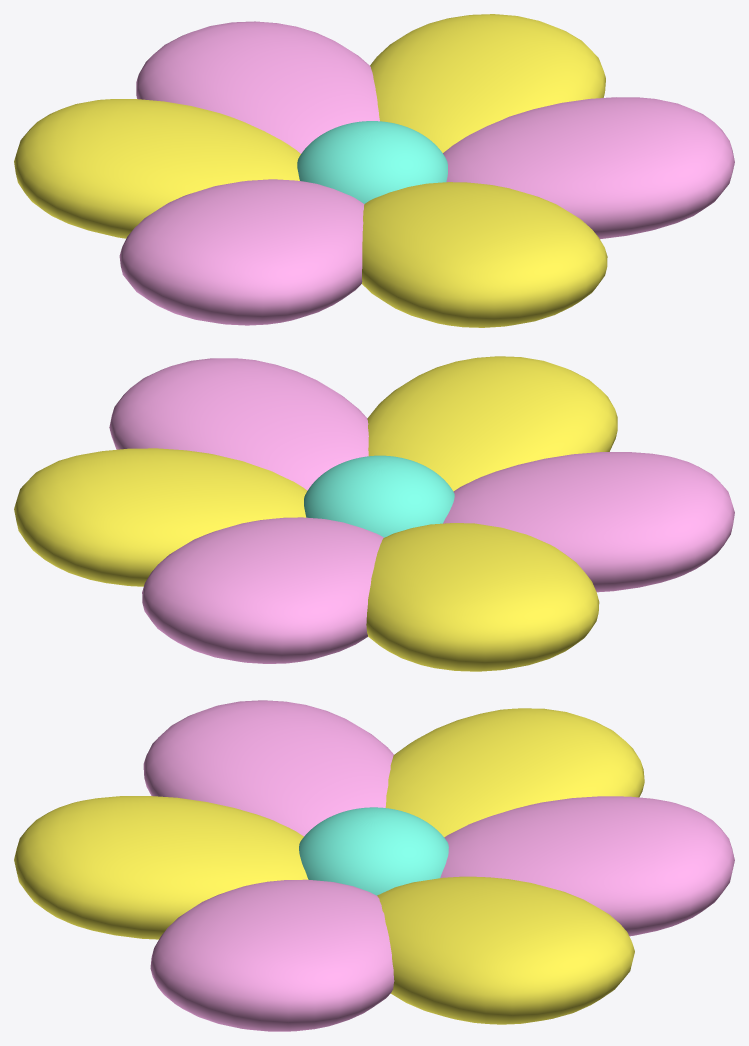
The model's file is flor_color_smooth.fbx.
3 views of the same model, one above another, from view 1: azimuth 30°, elevation 25°; view 2: azimuth 150°, elevation 25°; view 3: azimuth 270°, elevation 25° (orthographic). The views are drawn at different scales.
Visible parts, largest first — view 1: Cube.001; view 2: Cube.001; view 3: Cube.001.
Part boxes in pixels (bbox=[...]): Cube.001: bbox=[14, 14, 734, 327]; Cube.001: bbox=[14, 356, 734, 671]; Cube.001: bbox=[14, 700, 734, 1031].
Size of the model in its own units: 515 by 85.7 by 532.
